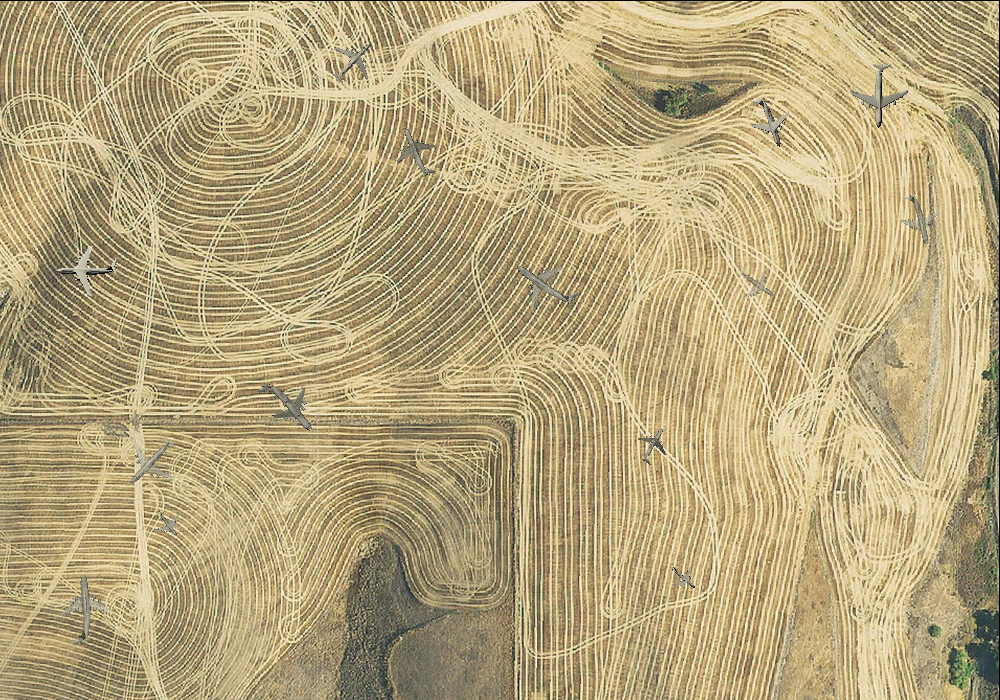plane: (501, 239, 591, 328), (243, 363, 330, 451), (111, 421, 191, 501), (48, 573, 115, 648), (319, 28, 386, 95), (384, 117, 450, 185), (737, 88, 800, 154), (849, 62, 911, 127), (888, 187, 948, 250), (56, 239, 118, 298), (728, 255, 784, 311), (628, 420, 679, 471), (146, 502, 188, 545), (663, 556, 704, 598)
